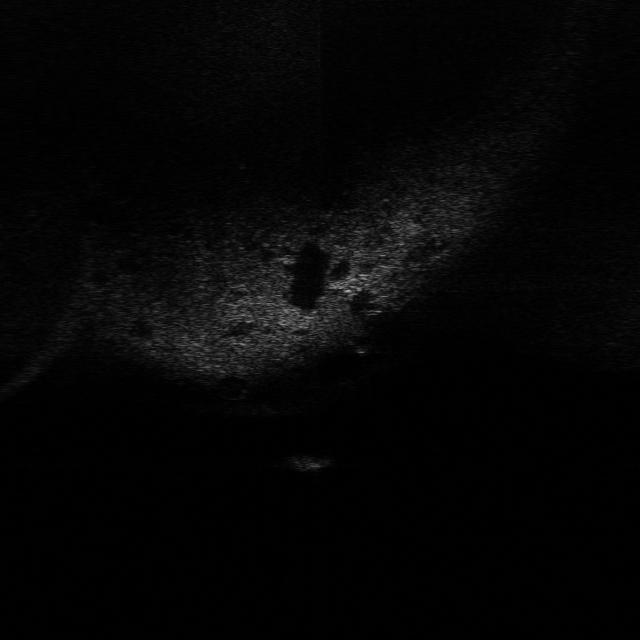ball: (346, 323, 376, 358)
cube: (278, 449, 334, 474)
